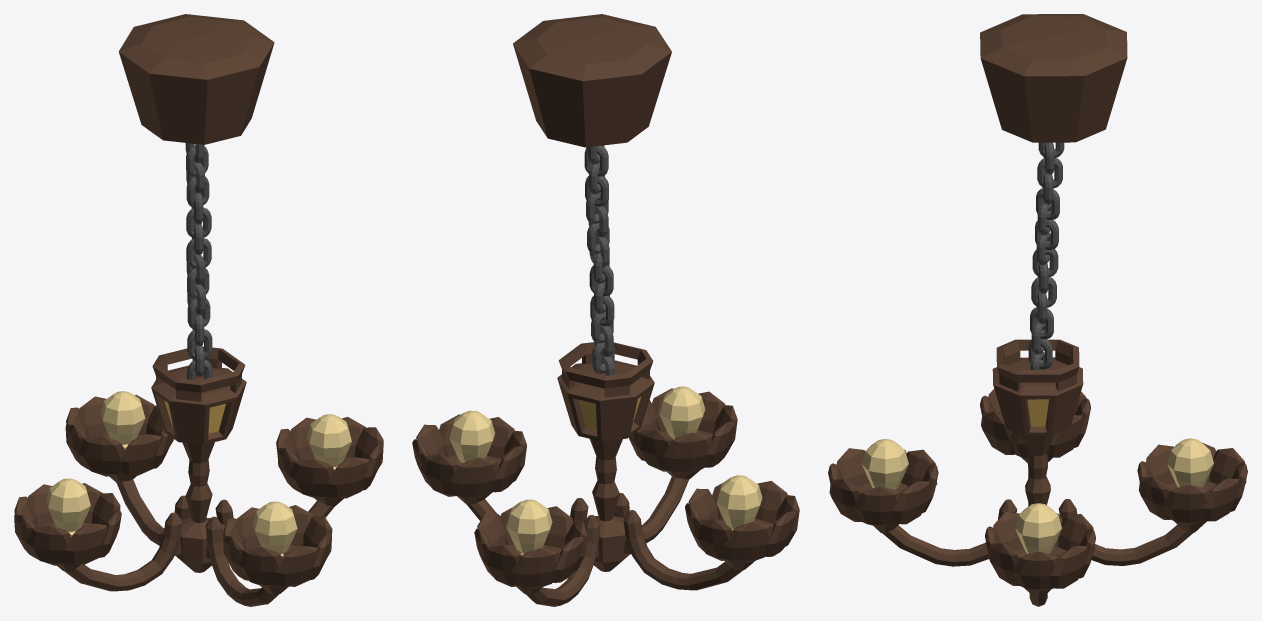
The model's file is avize.fbx.
3 renders of one model, left to right at view 1: azimuth 30°, elevation 25°; view 2: azimuth 150°, elevation 25°; view 3: azimuth 270°, elevation 25°, orthographic.
Parts seen in each view (by area): view 1: Cylinder.001; view 2: Cylinder.001; view 3: Cylinder.001.
Part boxes in pixels (x1,y1,x2,y2): Cylinder.001: [14, 14, 383, 606]; Cylinder.001: [412, 14, 799, 606]; Cylinder.001: [828, 14, 1247, 606].
Bounding box in the file's own units: 216 × 302 × 216.
